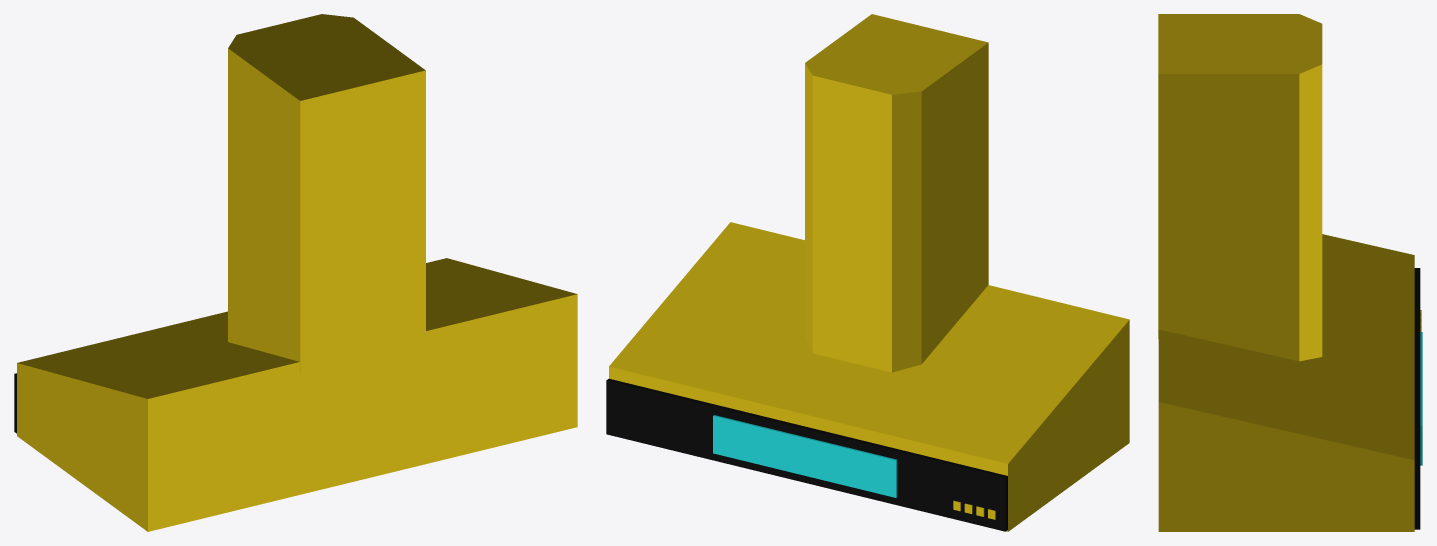
The model's file is Range Hood 2.fbx.
3 views of the same model, side by side, from view 1: azimuth 30°, elevation 25°; view 2: azimuth 150°, elevation 25°; view 3: azimuth 270°, elevation 25° (orthographic). The views are drawn at different scales.
Visible parts, largest first — view 1: Node 0; view 2: Node 0; view 3: Node 0.
Boxes of the visible parts, bbox=[...] form: Node 0: bbox=[14, 14, 577, 531]; Node 0: bbox=[606, 14, 1129, 531]; Node 0: bbox=[1158, 14, 1422, 531].
Size of the model in its own units: 0.6101 by 0.981 by 1.12.
